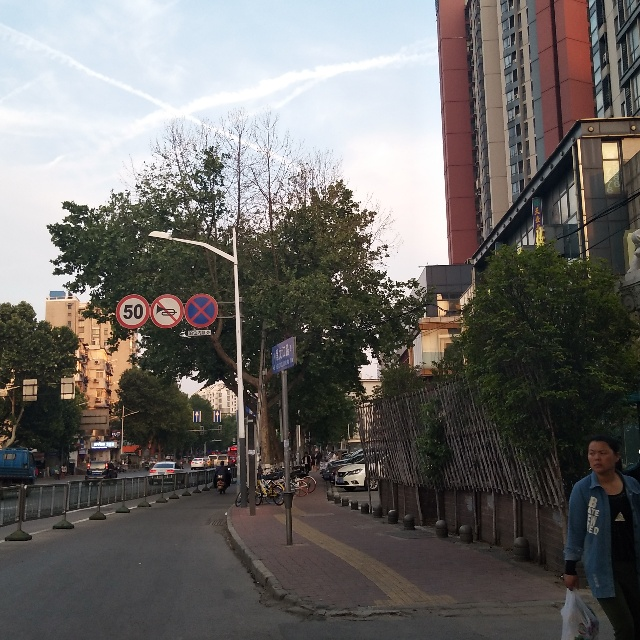nohonk: (153, 299, 180, 322)
stop: (187, 296, 215, 323)
